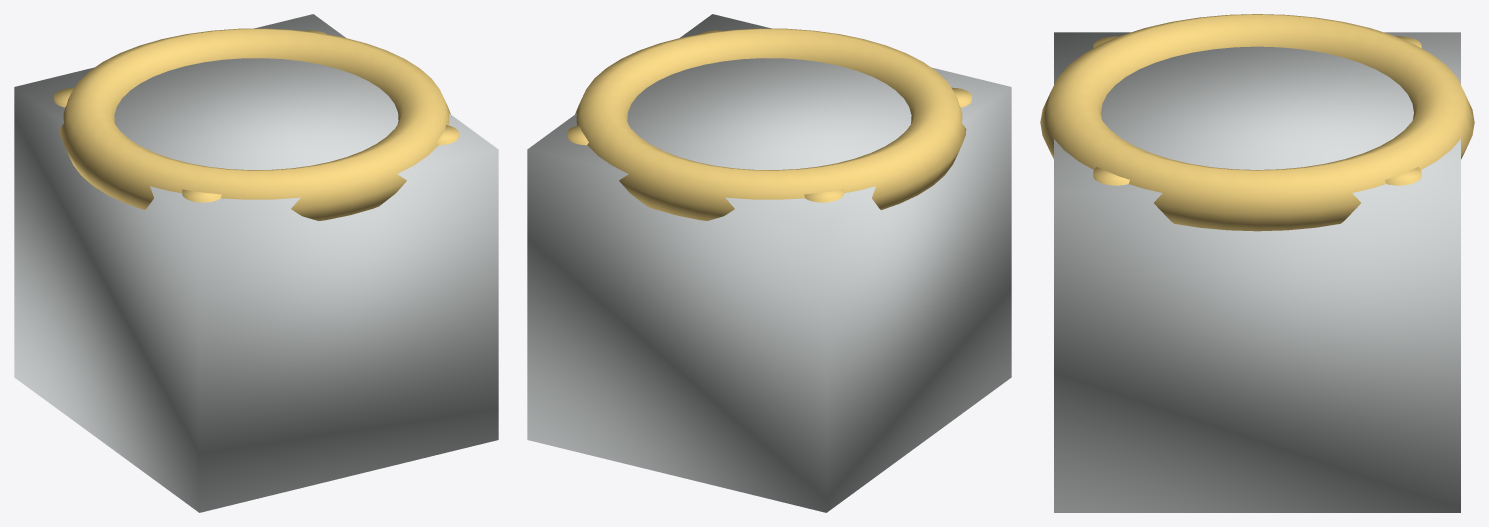
Rendered from 07_L86_SevenAxisRobotBase.glb.
3 renders of one model, left to right at view 1: azimuth 30°, elevation 25°; view 2: azimuth 150°, elevation 25°; view 3: azimuth 270°, elevation 25°, orthographic. The views are drawn at different scales.
Visible parts, largest first — view 1: L86_SevenAxisRobotBase; view 2: L86_SevenAxisRobotBase; view 3: L86_SevenAxisRobotBase.
Boxes of the visible parts, x1,y1,x2,y2 form: L86_SevenAxisRobotBase: (14,14,498,512); L86_SevenAxisRobotBase: (527,14,1011,512); L86_SevenAxisRobotBase: (1040,14,1474,512).
Bounding box in the file's own units: 1.6 × 1.38 × 1.6.
